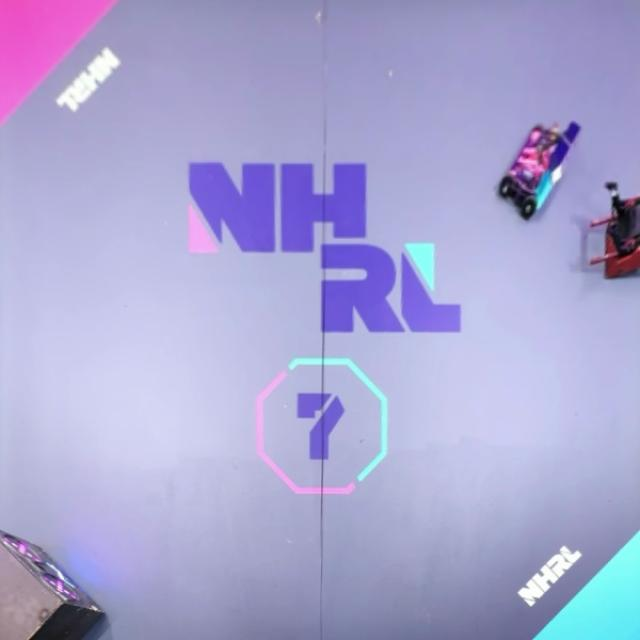housebot: (0, 529, 106, 639)
robot: (498, 121, 585, 220), (589, 182, 640, 279)
